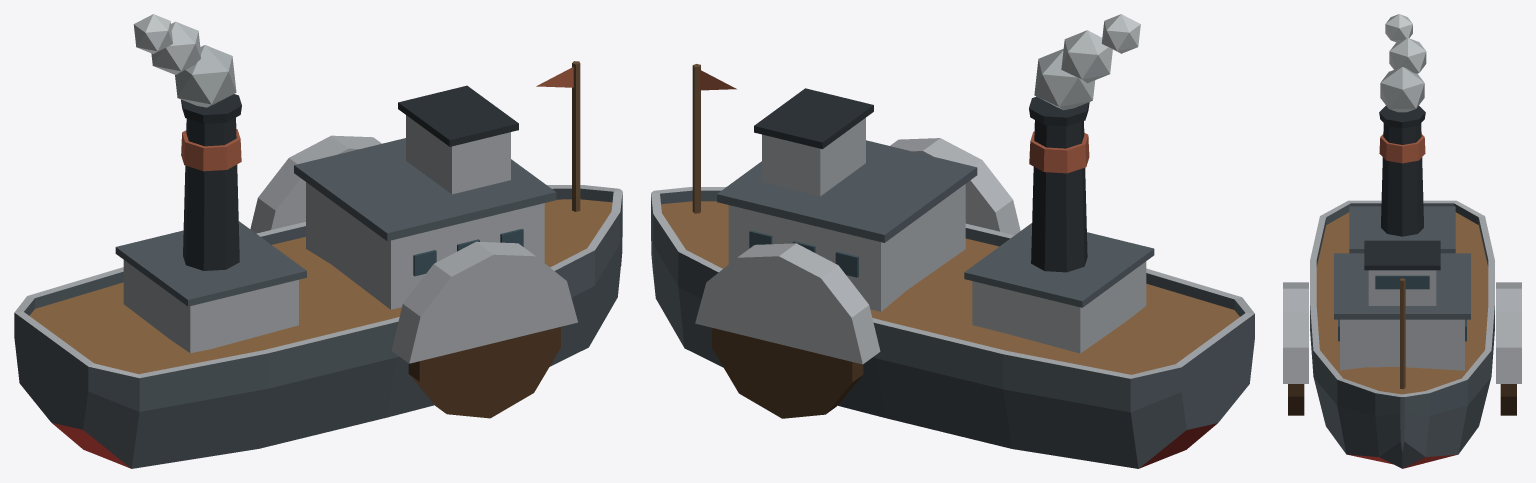
Rendered from steamer.glb.
3 renders of one model, left to right at view 1: azimuth 30°, elevation 25°; view 2: azimuth 150°, elevation 25°; view 3: azimuth 270°, elevation 25°, orthographic. The views are drawn at different scales.
Parts seen in each view (by area): view 1: steamer; view 2: steamer; view 3: steamer.
Part boxes in pixels (x1,y1,x2,y2): steamer: (14,14,622,468); steamer: (651,14,1254,468); steamer: (1283,14,1521,468).
Size of the model in its own units: 4.45 by 3.18 by 2.2.
